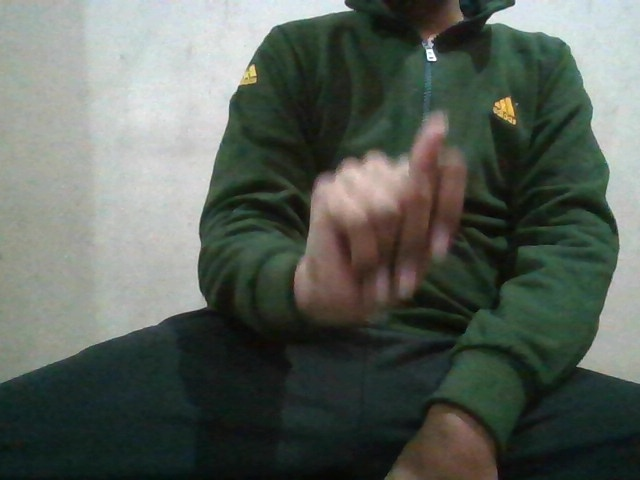T: (295, 107, 465, 311)
